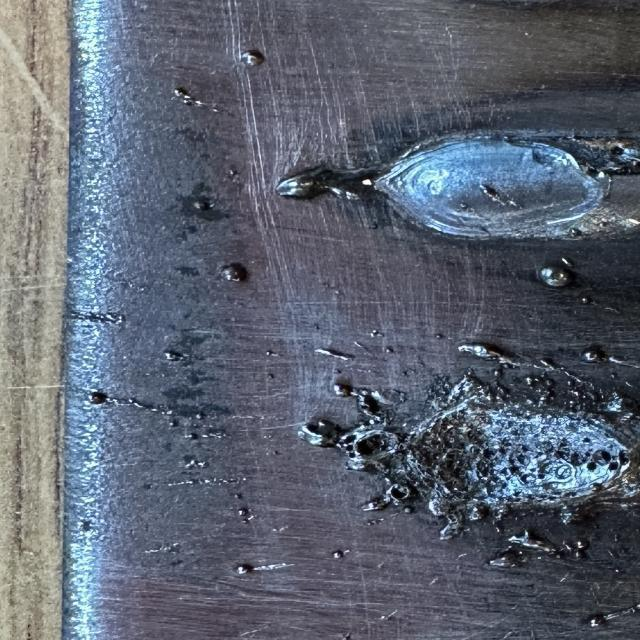Excess Reinforcement: (440, 372, 507, 410), (275, 175, 325, 199)
Porosity: (407, 402, 630, 516), (300, 388, 405, 476), (387, 484, 413, 501), (593, 450, 612, 465), (447, 514, 460, 526), (502, 473, 510, 481)
Spatters: (458, 345, 523, 366), (508, 530, 555, 552), (538, 266, 573, 288), (240, 50, 265, 66), (173, 88, 193, 105), (220, 265, 240, 281), (580, 349, 602, 362), (88, 391, 108, 405), (333, 384, 352, 398), (163, 350, 187, 361), (193, 201, 212, 211), (575, 539, 590, 550), (395, 391, 407, 402), (237, 566, 252, 574), (590, 618, 602, 628), (562, 258, 573, 268), (333, 550, 345, 559), (580, 296, 592, 304), (524, 376, 533, 386), (342, 632, 352, 640), (370, 330, 380, 338), (198, 461, 208, 468), (385, 346, 393, 354), (228, 169, 237, 176), (238, 509, 247, 516), (267, 350, 277, 356), (377, 562, 385, 569), (188, 433, 196, 440), (566, 380, 573, 388), (511, 202, 520, 208), (431, 578, 438, 585), (196, 413, 203, 420), (169, 422, 177, 428), (616, 569, 625, 574), (534, 377, 541, 383), (336, 290, 342, 296), (496, 526, 502, 532), (368, 521, 374, 526), (435, 335, 441, 339)
